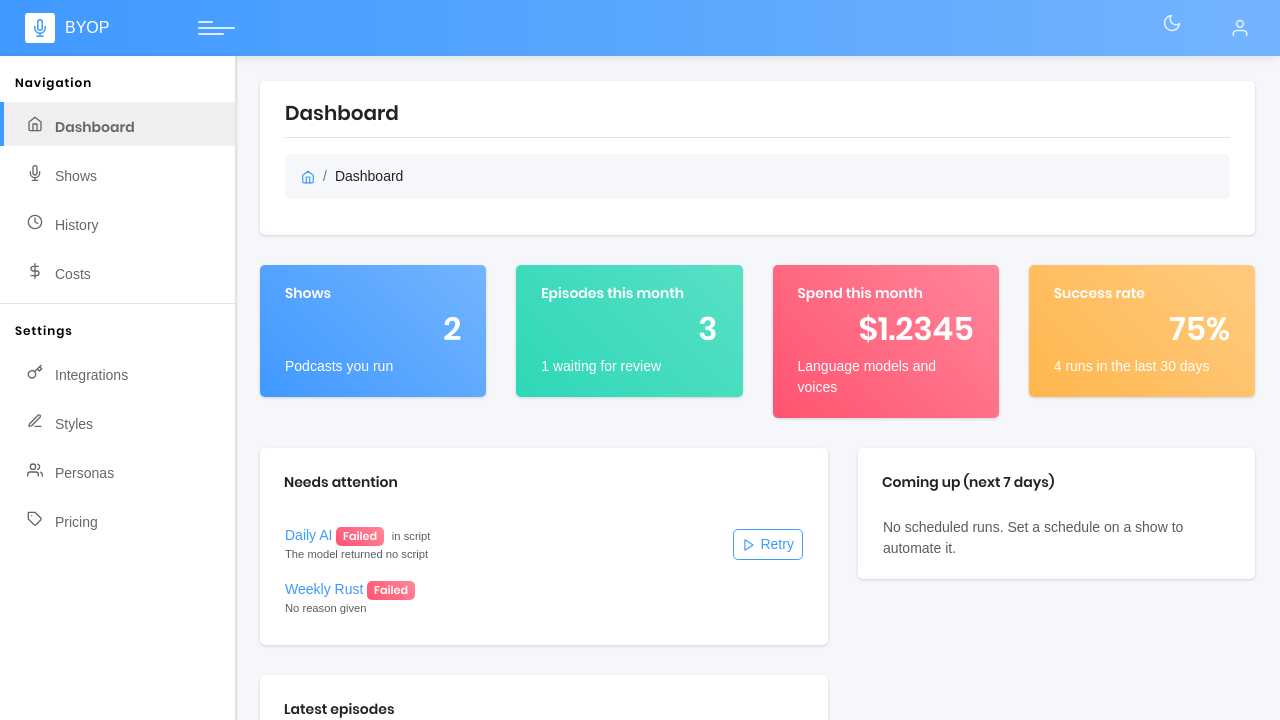
dashboard › offers a retry for a failure, through the usual cost confirmation
The image size is (1280, 720).
Expected: the text "The model returned no script" is shown, left=285, top=548, right=428, bottom=560
Expected: the text "No reason given" is shown, left=285, top=602, right=366, bottom=614
Click the button with aria-label "Retry: Daily AI": (768,544) left=734, top=529, right=803, bottom=560
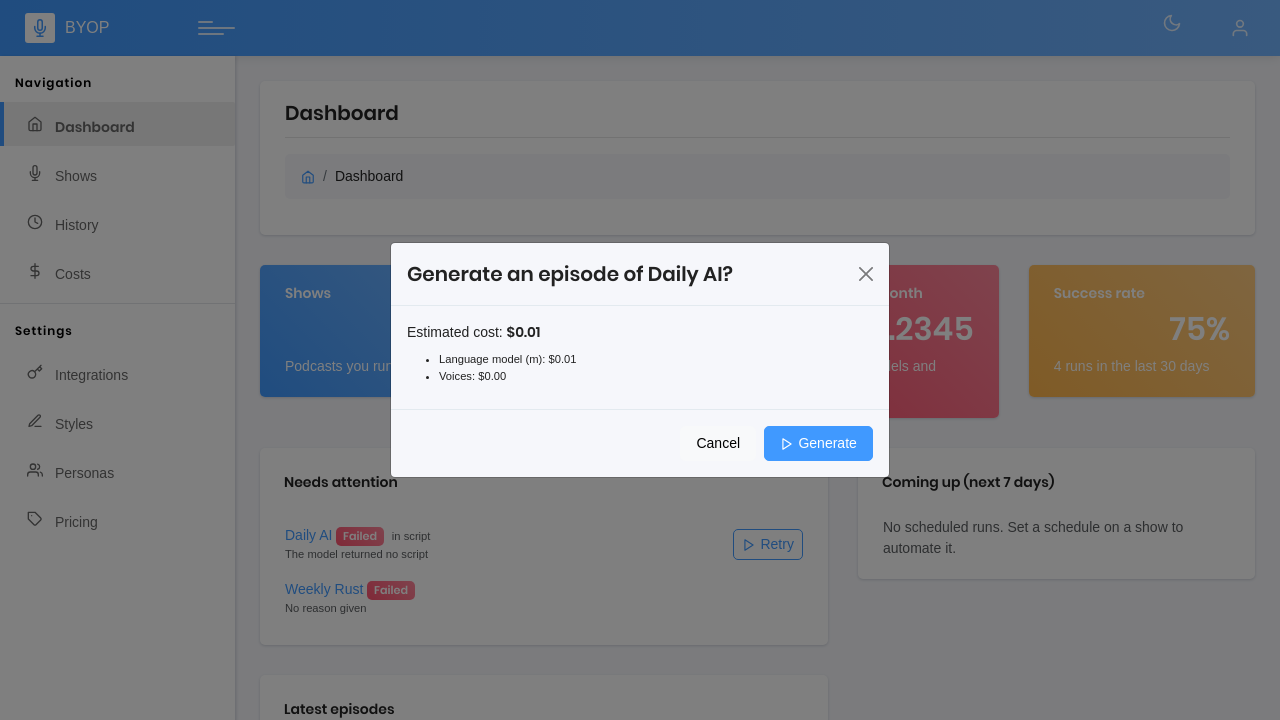
Click the button "Generate": (819,443) left=764, top=426, right=873, bottom=461
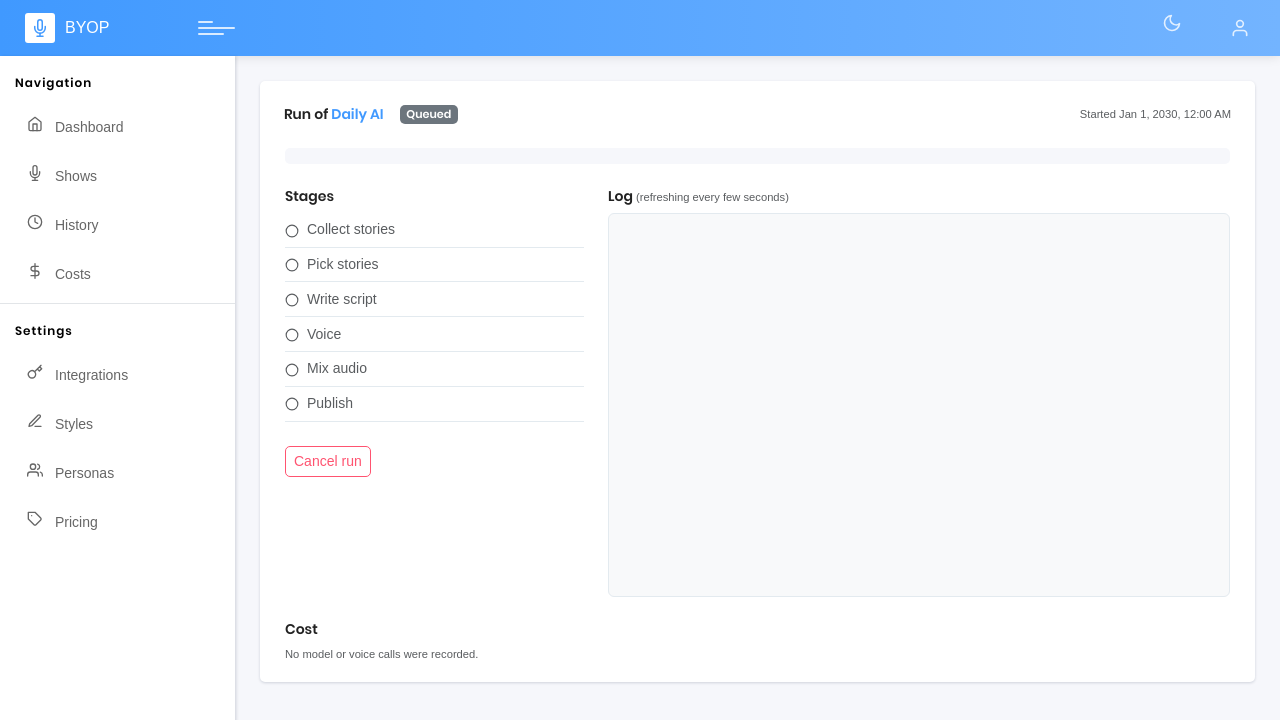
Expected: the text "Queued" is shown, left=400, top=105, right=458, bottom=124
